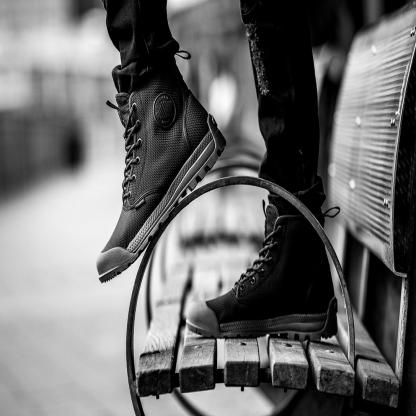ankle: (161, 94, 168, 102), (299, 239, 304, 247)
heel: (331, 322, 337, 333), (216, 137, 223, 144)
left_foot: (97, 88, 228, 284)
pinky: (118, 248, 123, 256), (202, 296, 206, 304)
right_foot: (188, 214, 340, 341)
toe: (195, 310, 201, 318), (100, 257, 104, 263)
